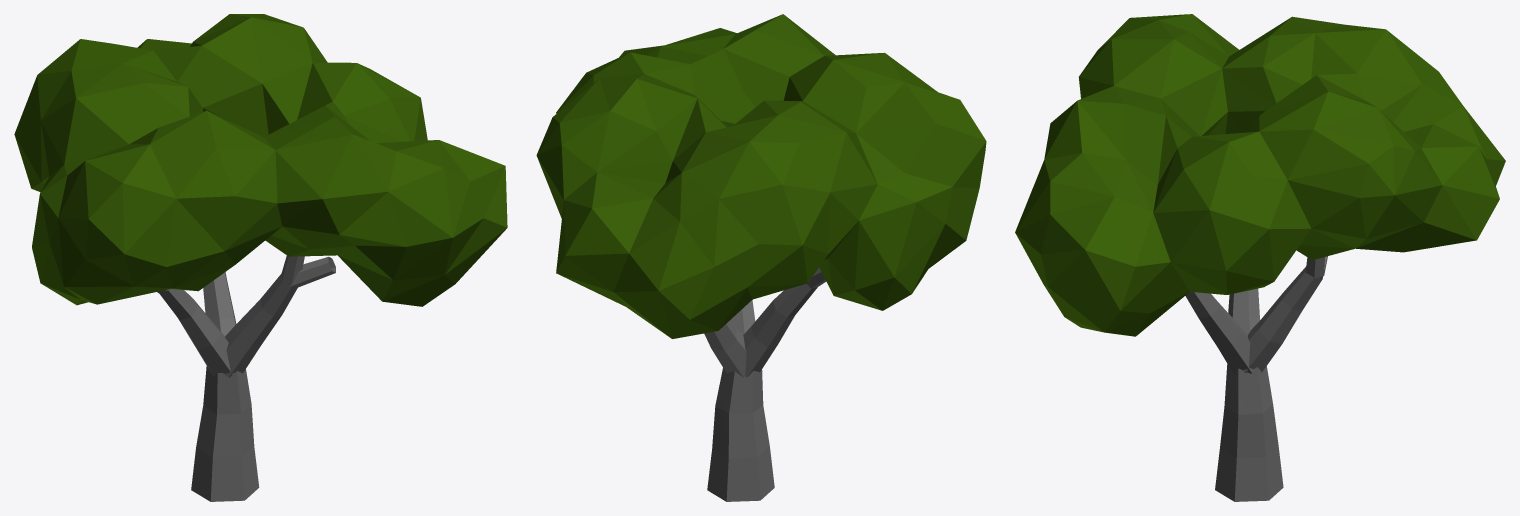
Rendered from SM__Deciduous__Tree__Growth__1.fbx.
The picture shows the model from 3 angles, left to right: view 1: azimuth 30°, elevation 25°; view 2: azimuth 150°, elevation 25°; view 3: azimuth 270°, elevation 25°; orthographic projection.
Parts seen in each view (by area): view 1: normal2; view 2: normal2; view 3: normal2.
Part boxes in pixels (left/top/right/bottom): normal2: left=14, top=14, right=507, bottom=501; normal2: left=536, top=14, right=986, bottom=501; normal2: left=1015, top=14, right=1505, bottom=501.
Bounding box in the file's own units: 4.37 × 4.4 × 4.56.
